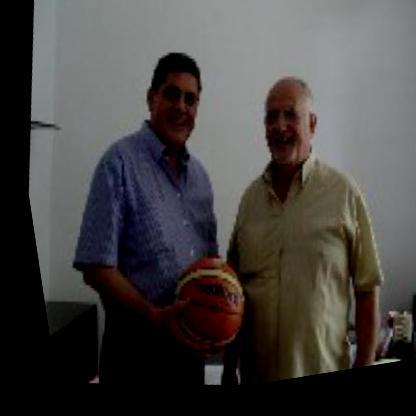basketball: (149, 250, 251, 373)
